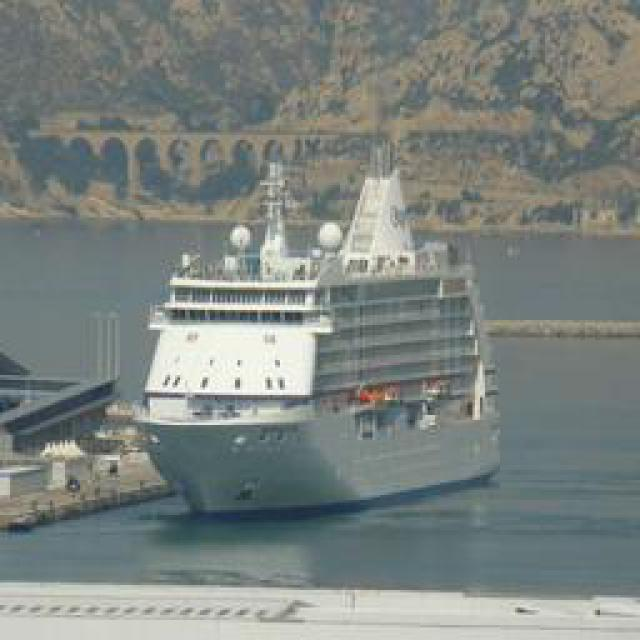Ship: (120, 142, 503, 525)
